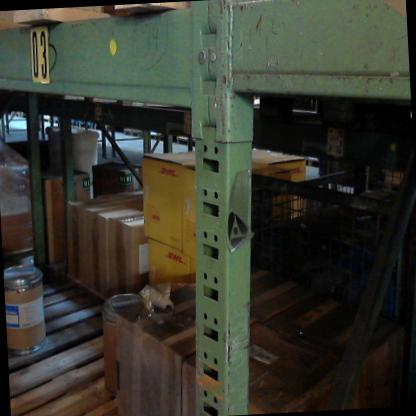pallet: (5, 255, 147, 416), (0, 1, 201, 38), (288, 150, 323, 172), (177, 133, 204, 151), (148, 128, 170, 143), (34, 110, 52, 127), (98, 120, 117, 133), (120, 127, 142, 137), (8, 110, 23, 120)
stillage: (238, 142, 416, 307)
